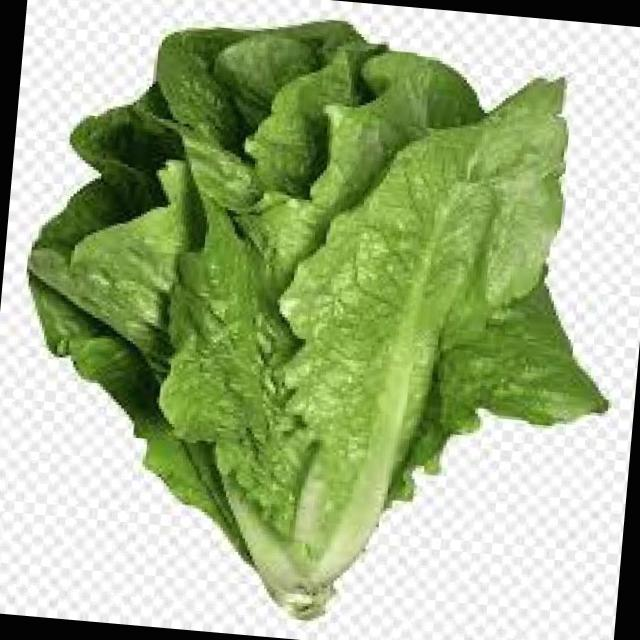Lettuce-Ready-to-Harvest: (29, 22, 605, 617)
